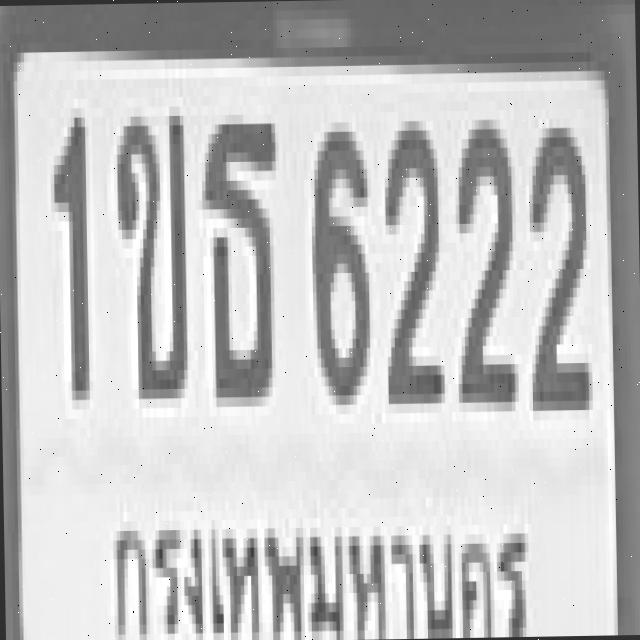1: (49, 107, 92, 406)
11KhorKhai: (112, 106, 190, 402)
2: (526, 128, 592, 412), (454, 115, 516, 408), (380, 121, 441, 404)
33ThorThong: (202, 113, 281, 406)
6: (307, 120, 371, 406)
Bangkok: (101, 473, 540, 640)
